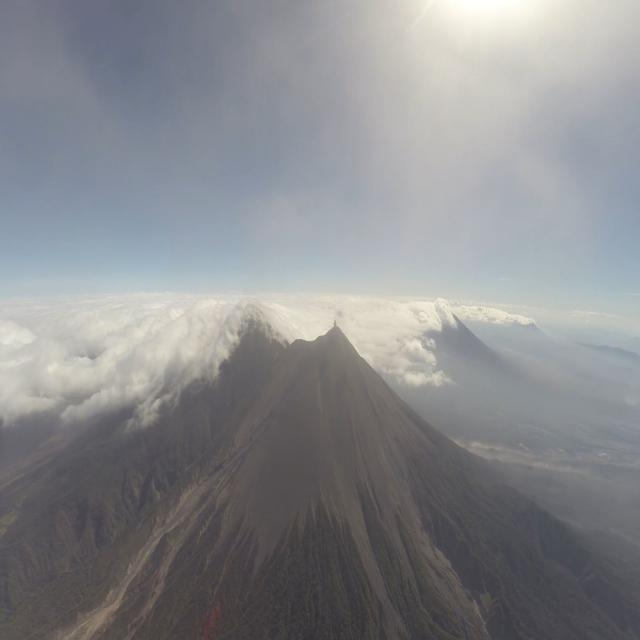Plume: (332, 318, 338, 328)
Summit: (314, 326, 356, 352)
